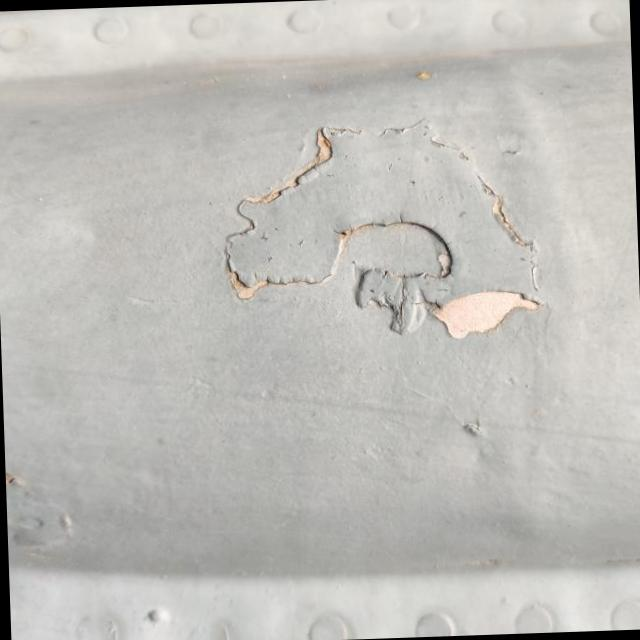Paint-off: (429, 289, 546, 342)
